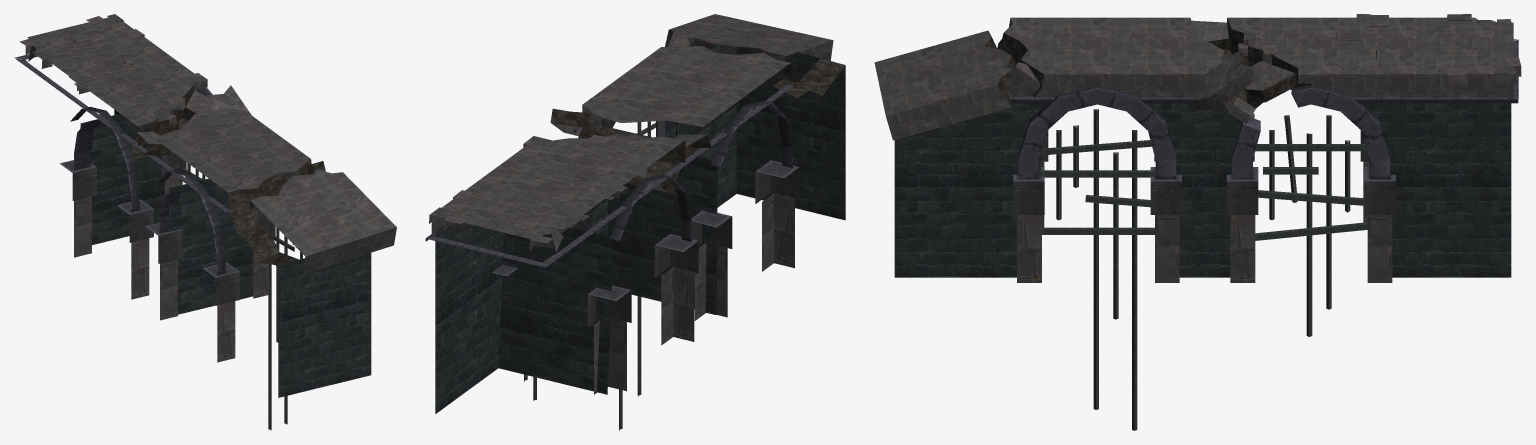
Rendered from building_section02_guanka10C07.FBX.
The picture shows the model from 3 angles, left to right: view 1: azimuth 30°, elevation 25°; view 2: azimuth 150°, elevation 25°; view 3: azimuth 270°, elevation 25°; orthographic projection. The views are drawn at different scales.
Parts seen in each view (by area): view 1: building_section02_guanka10C07; view 2: building_section02_guanka10C07; view 3: building_section02_guanka10C07.
Boxes of the visible parts, bbox=[...] form: building_section02_guanka10C07: bbox=[14, 14, 396, 430]; building_section02_guanka10C07: bbox=[425, 14, 845, 430]; building_section02_guanka10C07: bbox=[874, 14, 1521, 430].
Size of the model in its own units: 16.34 by 37.86 by 60.23.
